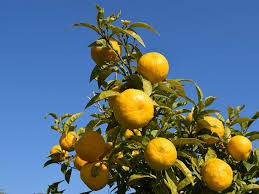orange: (110, 90, 155, 128), (141, 134, 179, 170), (135, 48, 170, 81), (70, 131, 107, 161), (94, 33, 123, 64)
